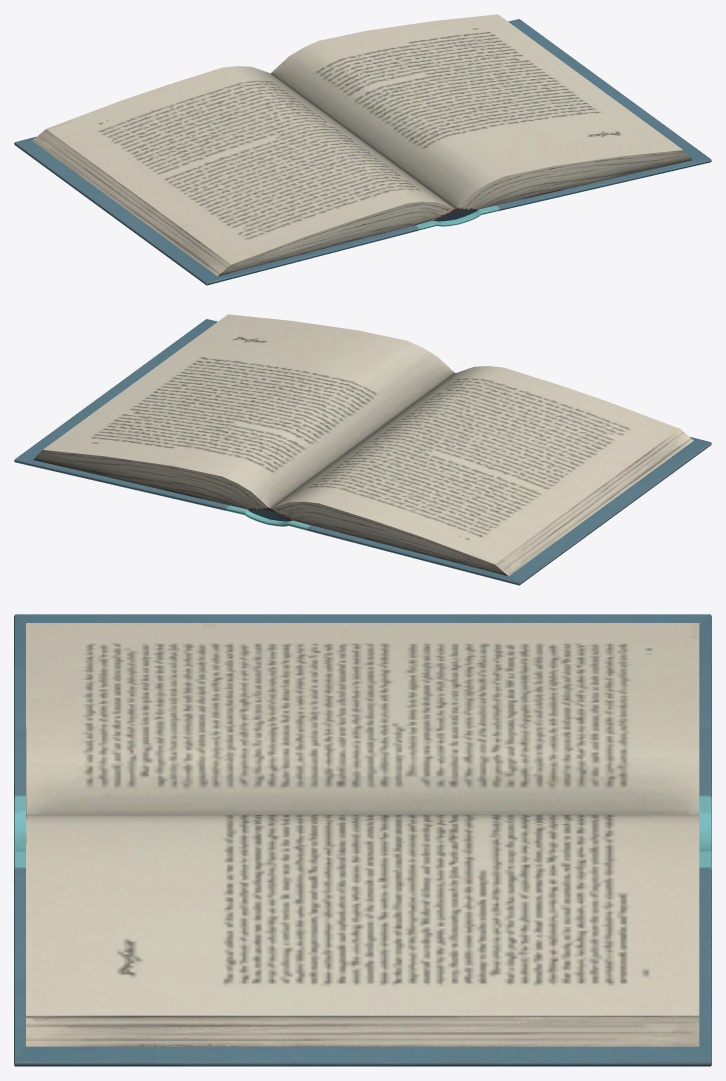
File: book_unnamed01_open.dae
3 views of the same model, one above another, from view 1: azimuth 30°, elevation 25°; view 2: azimuth 150°, elevation 25°; view 3: azimuth 270°, elevation 25° (orthographic). The views are drawn at different scales.
Parts seen in each view (by area): view 1: book1_open1; view 2: book1_open1; view 3: book1_open1.
Boxes of the visible parts, bbox=[...] form: book1_open1: bbox=[14, 14, 711, 285]; book1_open1: bbox=[14, 314, 711, 585]; book1_open1: bbox=[14, 614, 711, 1066].
Size of the model in its own units: 40.35 by 2.6 by 26.55.
